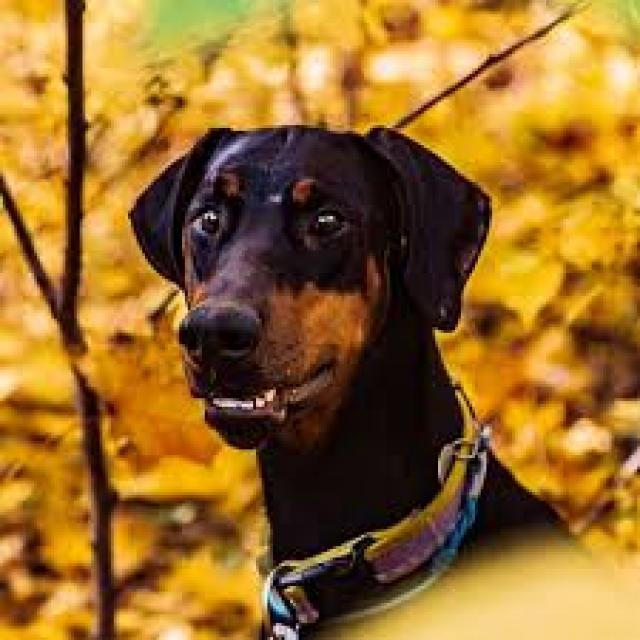Dog: (124, 121, 578, 640)
